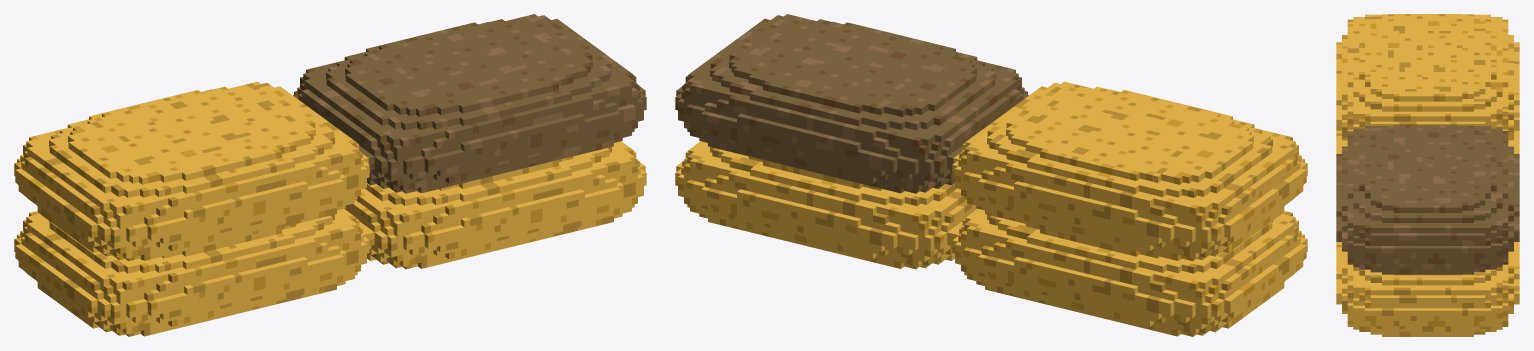
Rendered from sandboxes-2.obj.
The picture shows the model from 3 angles, left to right: view 1: azimuth 30°, elevation 25°; view 2: azimuth 150°, elevation 25°; view 3: azimuth 270°, elevation 25°; orthographic projection. The views are drawn at different scales.
Bounding box in the file's own units: 9.2 × 2.4 × 3.2.
1 material, 1 textured.
